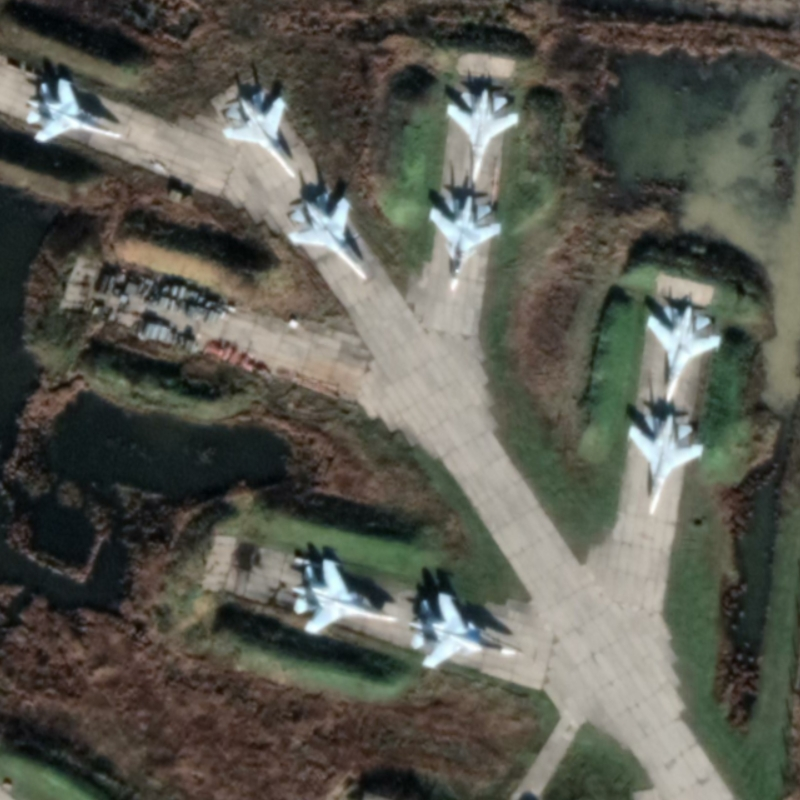A1: (288, 554, 401, 635), (625, 411, 706, 519), (644, 305, 723, 406), (285, 192, 371, 284), (444, 87, 522, 185), (220, 90, 300, 181), (21, 74, 124, 144)
A19: (406, 589, 520, 669), (426, 193, 504, 293)
